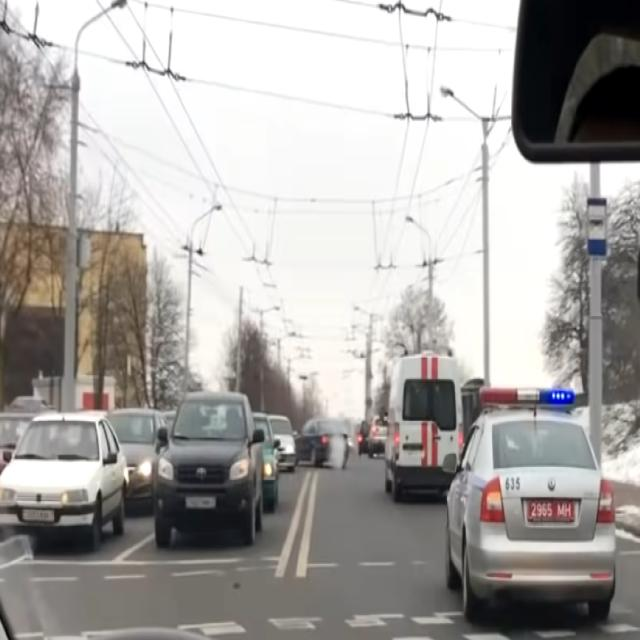ambulance: (384, 353, 465, 503)
non emergency car: (2, 413, 129, 552), (155, 389, 260, 551), (135, 399, 169, 521), (296, 415, 350, 470), (255, 410, 279, 515), (275, 412, 295, 471)
police car: (446, 384, 616, 633)
